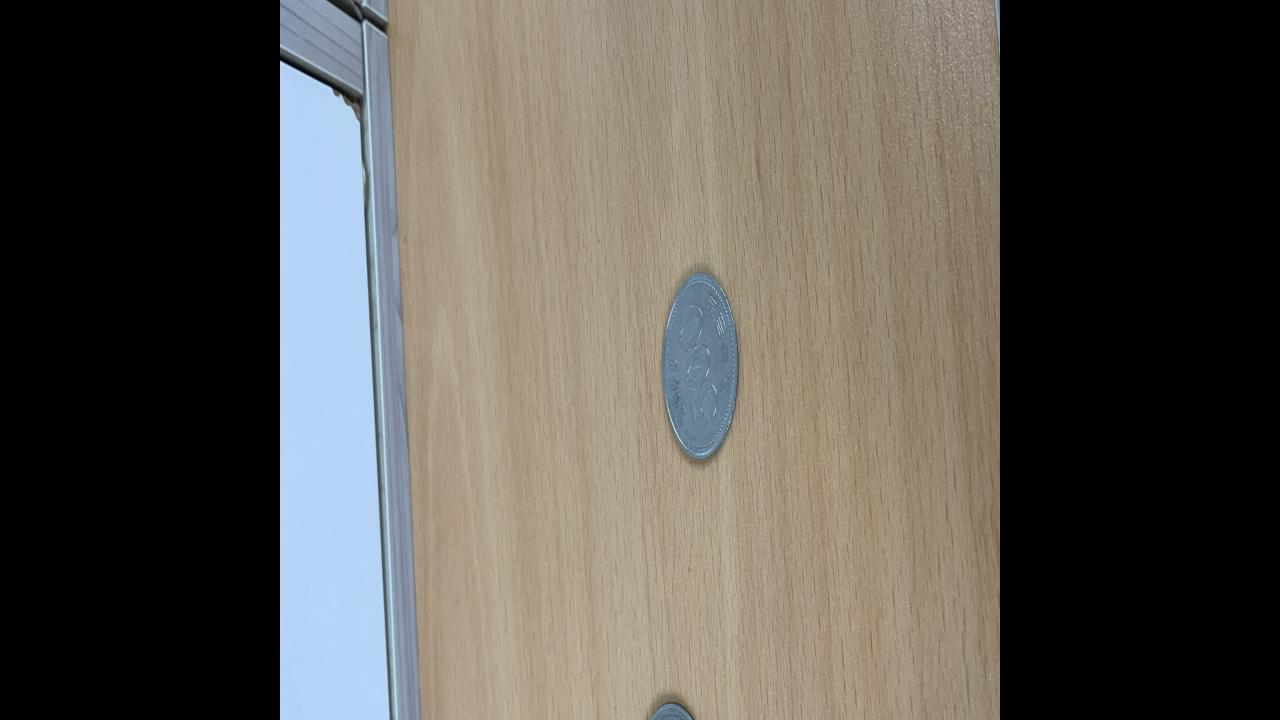coin: (660, 268, 740, 460)
